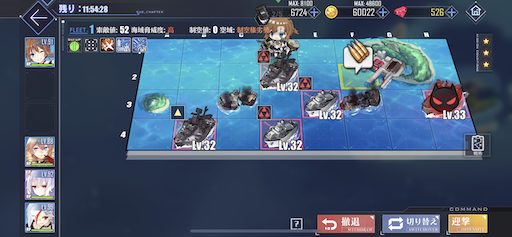boss: (420, 78, 466, 120)
lv1: (171, 105, 215, 149)
lv3: (258, 106, 302, 151), (254, 49, 301, 89), (299, 77, 343, 118)
